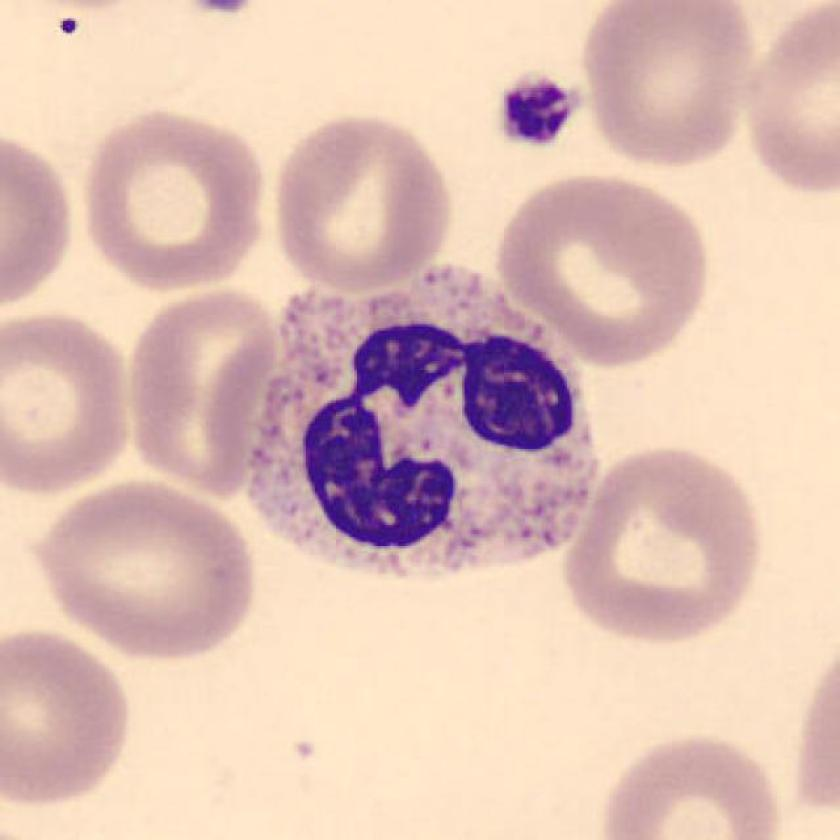neutrophil: (246, 269, 597, 573)
